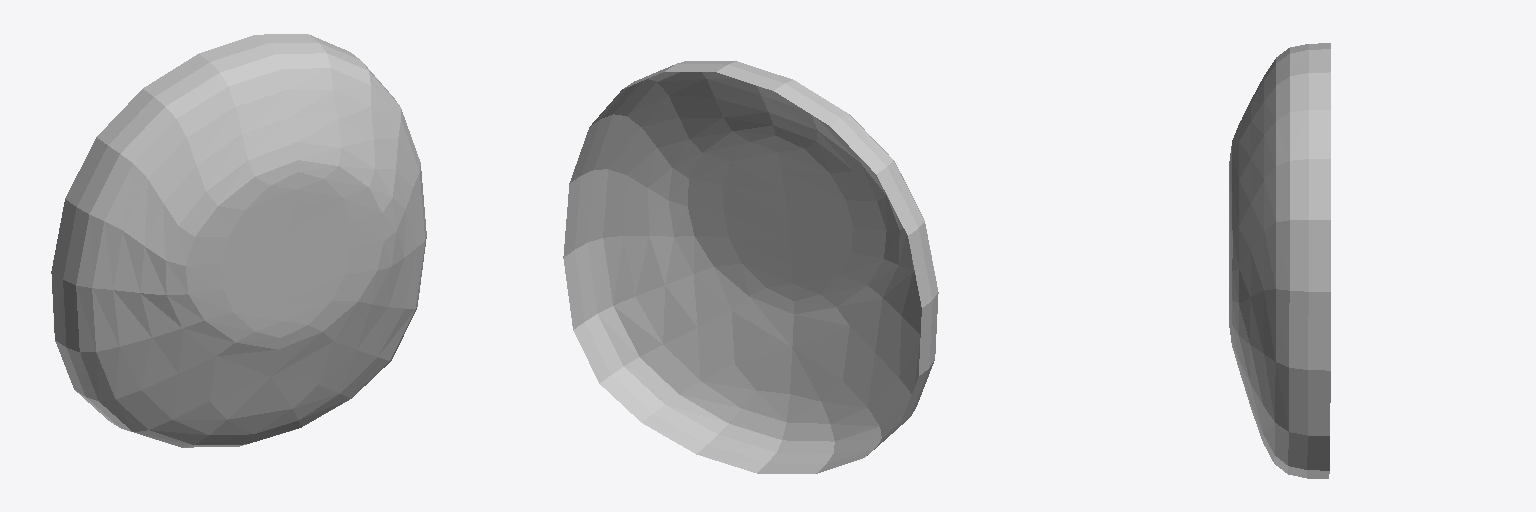
The model's file is Front buttons.obj.
3 renders of one model, left to right at view 1: azimuth 30°, elevation 25°; view 2: azimuth 150°, elevation 25°; view 3: azimuth 270°, elevation 25°, orthographic.
Parts seen in each view (by area): view 1: Cylinder; view 2: Cylinder; view 3: Cylinder.
Boxes of the visible parts, x1=… form: Cylinder: x1=51, y1=34, x2=426, y2=447; Cylinder: x1=563, y1=61, x2=938, y2=473; Cylinder: x1=1229, y1=43, x2=1330, y2=478.
Size of the model in its own units: 0.6557 by 0.6858 by 0.1631.